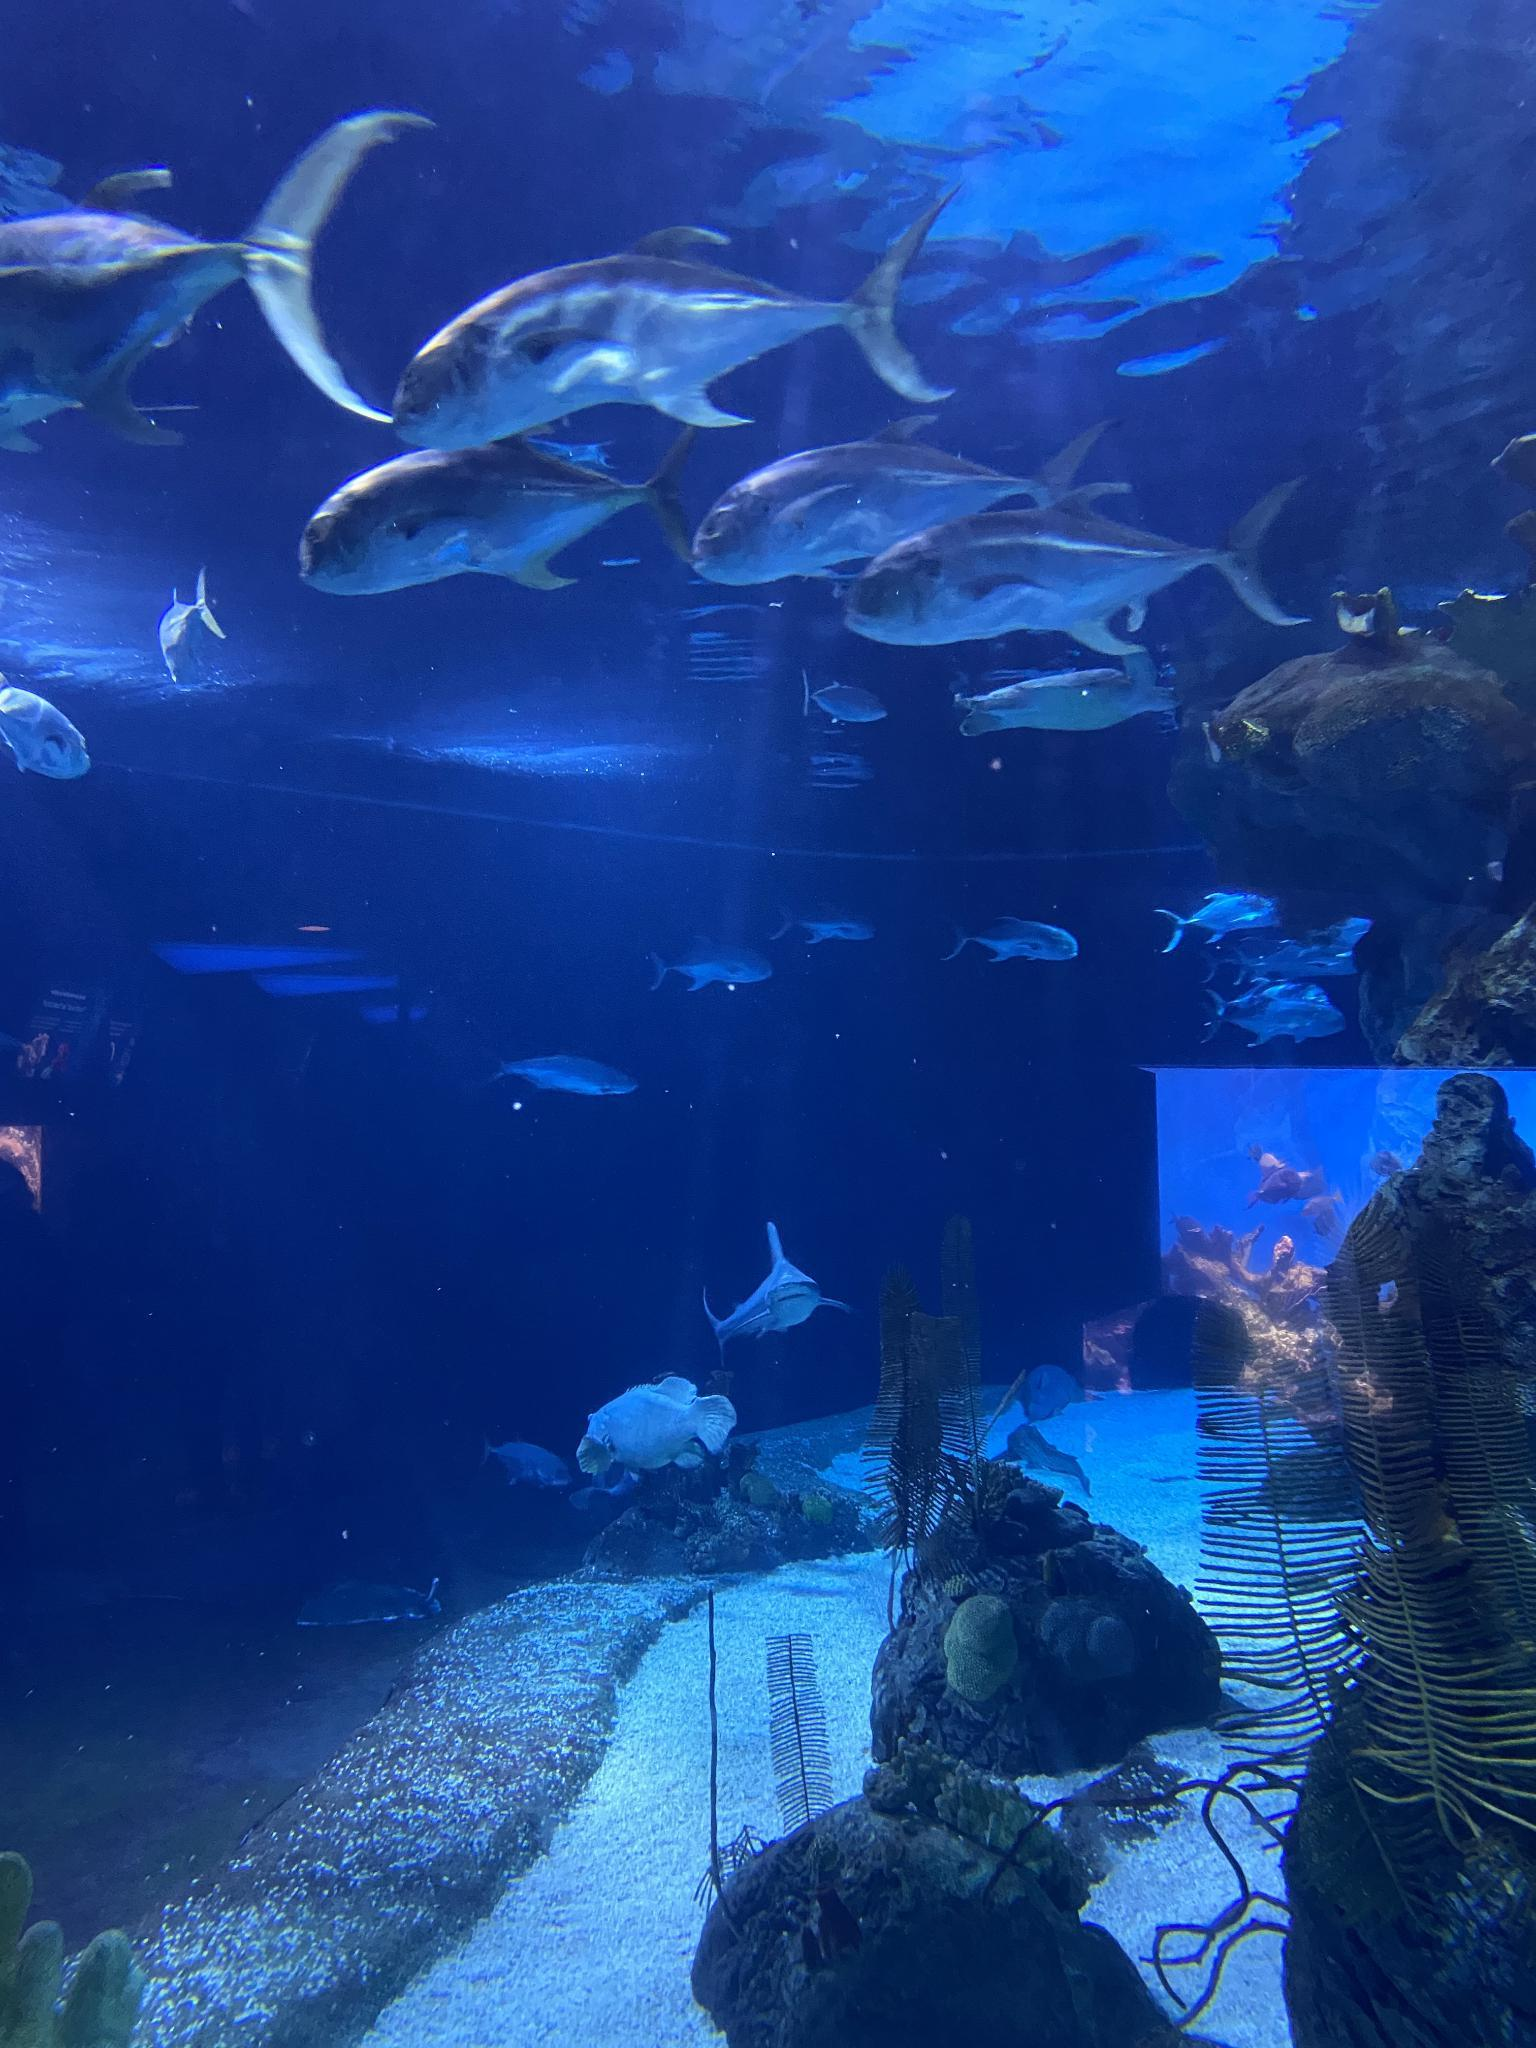fish: (0, 105, 397, 427), (390, 231, 947, 447), (865, 469, 1297, 643), (287, 440, 686, 614), (695, 423, 1108, 574), (0, 669, 102, 792), (1204, 980, 1360, 1051), (936, 895, 1089, 963), (157, 582, 240, 701), (502, 1048, 644, 1105), (1158, 882, 1276, 948), (658, 927, 766, 997), (797, 674, 889, 727), (800, 893, 878, 953)
shark: (699, 1227, 854, 1355)
